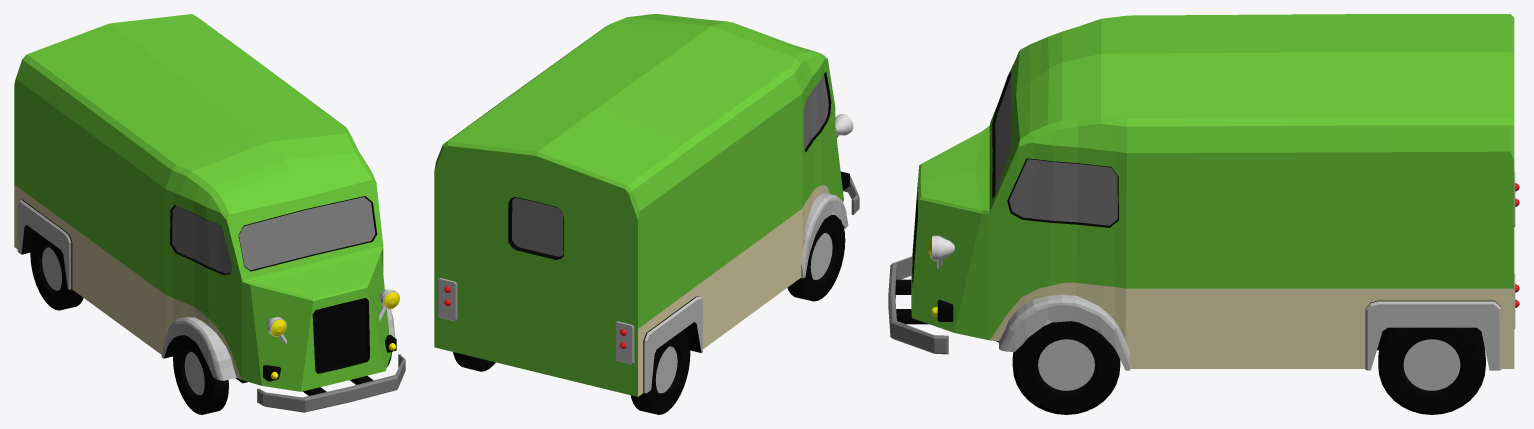
Rendered from Пробка Авто 3.fbx.
The picture shows the model from 3 angles, left to right: view 1: azimuth 30°, elevation 25°; view 2: azimuth 150°, elevation 25°; view 3: azimuth 270°, elevation 25°; orthographic projection. The views are drawn at different scales.
Visible parts, largest first — view 1: Cube; view 2: Cube; view 3: Cube.
Boxes of the visible parts, x1,y1,x2,y2 form: Cube: [14, 14, 405, 414]; Cube: [434, 14, 859, 414]; Cube: [888, 14, 1519, 414].
Size of the model in its own units: 112 by 134 by 249.
